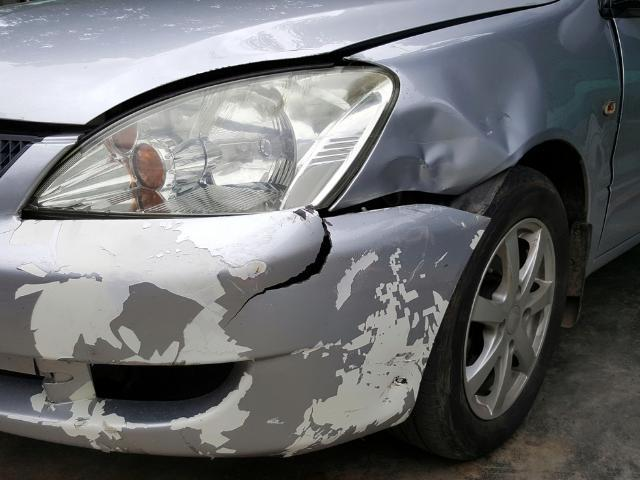Bumper: (16, 211, 491, 480)
Fender: (367, 41, 618, 175)
Light: (0, 52, 398, 220)
